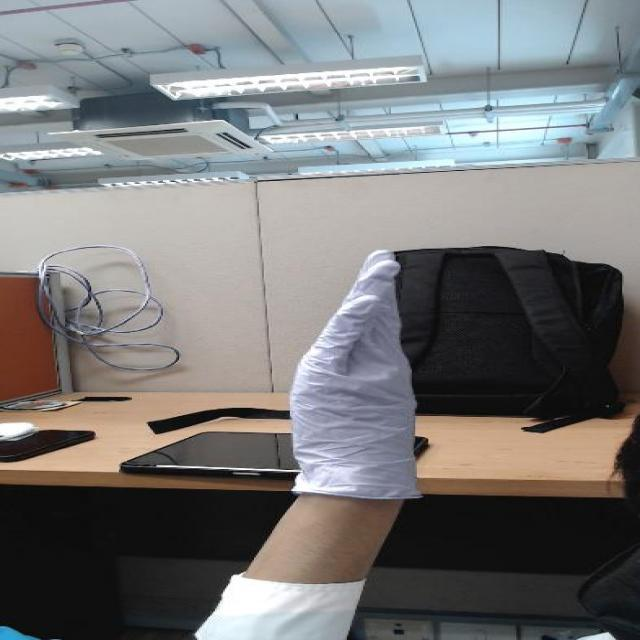Glove: (280, 240, 447, 505)
